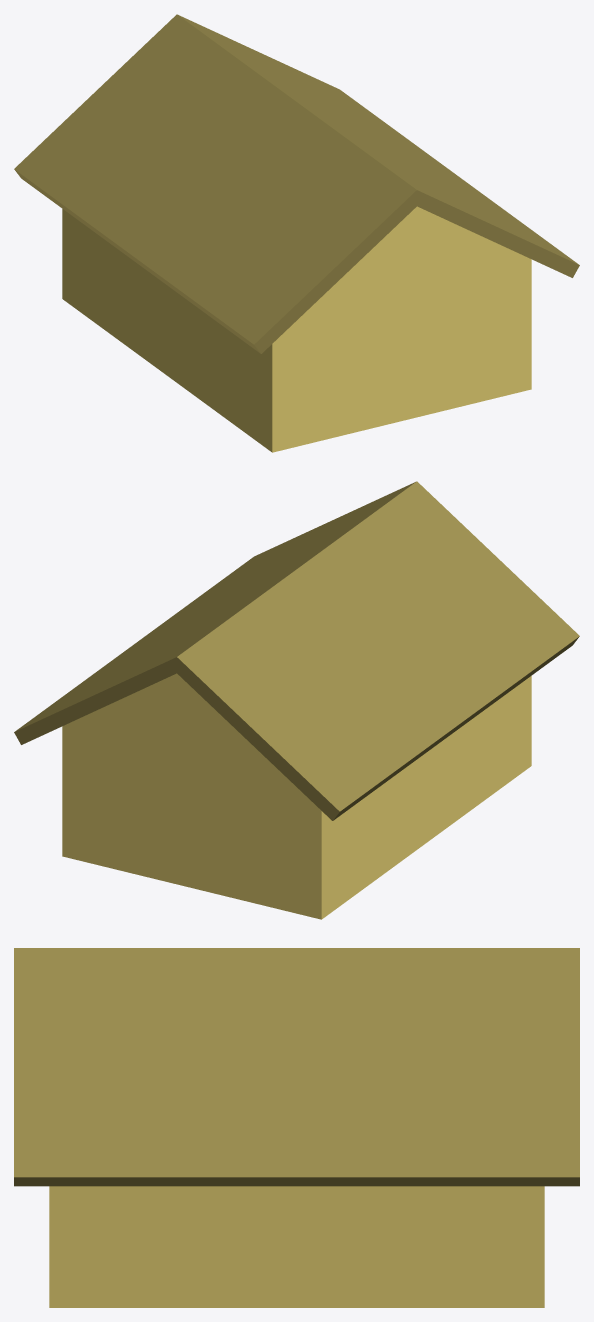
File: result.glb
3 renders of one model, top to bottom at view 1: azimuth 30°, elevation 25°; view 2: azimuth 150°, elevation 25°; view 3: azimuth 270°, elevation 25°, orthographic. The views are drawn at different scales.
Visible parts, largest first — view 1: cd7aca1e-68f6-4ad7-a0a6-85ec1ffa468f__undefined (×2), afc07122-b093-435c-9fd9-9dcb42622575__undefined; view 2: cd7aca1e-68f6-4ad7-a0a6-85ec1ffa468f__undefined (×2), afc07122-b093-435c-9fd9-9dcb42622575__undefined; view 3: cd7aca1e-68f6-4ad7-a0a6-85ec1ffa468f__undefined, afc07122-b093-435c-9fd9-9dcb42622575__undefined.
Part boxes in pixels (left/top/right/bottom): cd7aca1e-68f6-4ad7-a0a6-85ec1ffa468f__undefined (×2): left=14, top=14, right=579, bottom=353; afc07122-b093-435c-9fd9-9dcb42622575__undefined: left=62, top=206, right=531, bottom=452; cd7aca1e-68f6-4ad7-a0a6-85ec1ffa468f__undefined (×2): left=14, top=481, right=579, bottom=820; afc07122-b093-435c-9fd9-9dcb42622575__undefined: left=62, top=673, right=531, bottom=919; cd7aca1e-68f6-4ad7-a0a6-85ec1ffa468f__undefined: left=14, top=948, right=579, bottom=1186; afc07122-b093-435c-9fd9-9dcb42622575__undefined: left=49, top=1186, right=544, bottom=1307.
Bounding box in the file's own units: 627 × 445 × 800.
